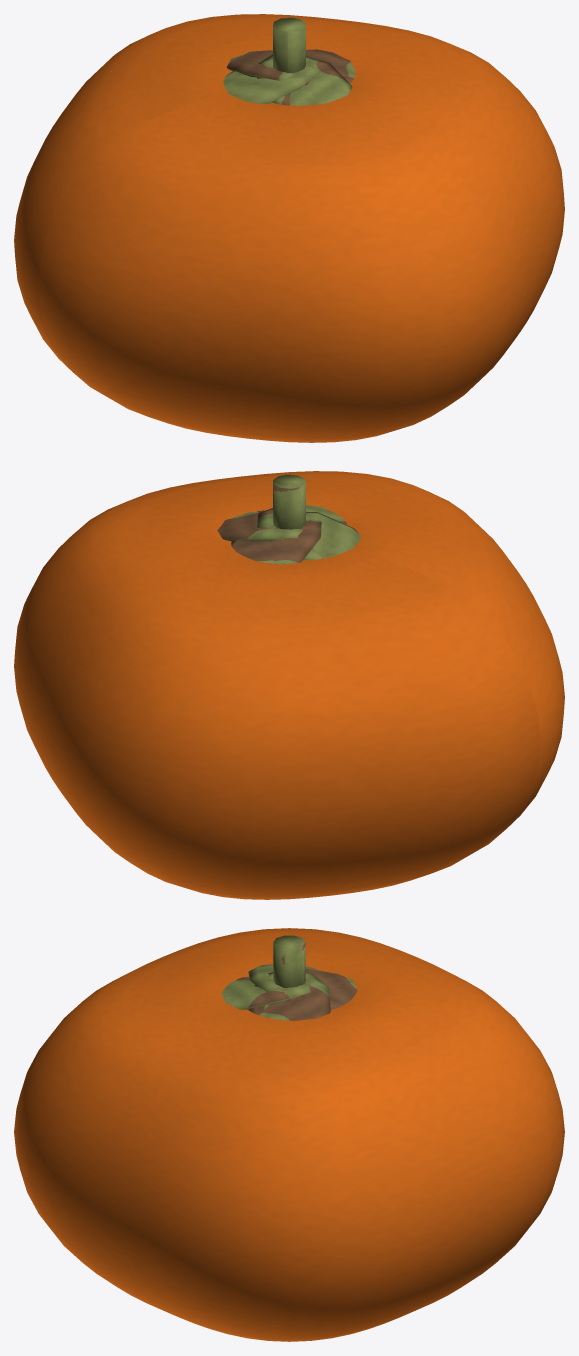
Rendered from z3_caqui.obj.
The picture shows the model from 3 angles, top to bottom: view 1: azimuth 30°, elevation 25°; view 2: azimuth 150°, elevation 25°; view 3: azimuth 270°, elevation 25°; orthographic projection. The views are drawn at different scales.
Visible parts, largest first — view 1: caqui; view 2: caqui; view 3: caqui.
Boxes of the visible parts, x1,y1,x2,y2 form: caqui: (14, 14, 564, 442); caqui: (14, 471, 564, 899); caqui: (14, 928, 564, 1341).
Bounding box in the file's own units: 0.0752 × 0.0527 × 0.0752.
2 materials, 2 textured.
